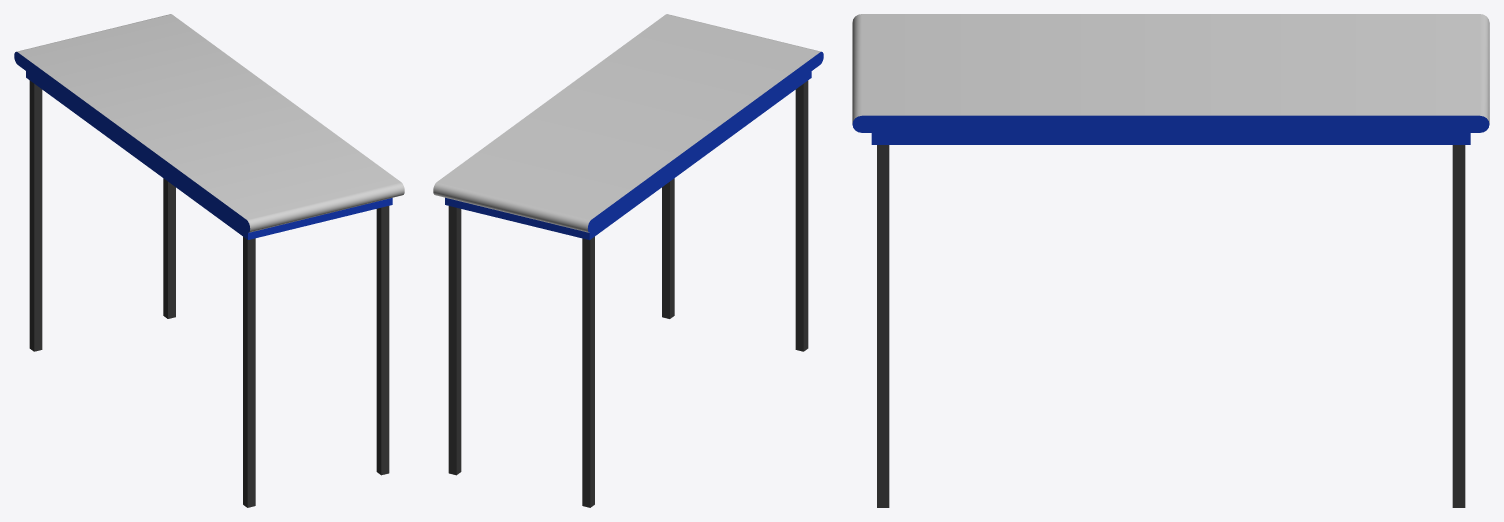
Rendered from Conveyor.fbx.
3 views of the same model, side by side, from view 1: azimuth 30°, elevation 25°; view 2: azimuth 150°, elevation 25°; view 3: azimuth 270°, elevation 25° (orthographic). The views are drawn at different scales.
Visible parts, largest first — view 1: Cylinder, Ножки, Cube; view 2: Cylinder, Ножки, Cube; view 3: Cylinder, Ножки, Cube.
Part boxes in pixels (x1,y1,x2,y2): Cylinder: (14,14,404,232); Ножки: (29,80,389,507); Cube: (26,71,392,239); Cylinder: (433,14,823,232); Ножки: (448,80,808,507); Cube: (445,71,811,240); Cylinder: (852,14,1489,132); Ножки: (877,145,1465,507); Cube: (871,133,1470,144).
Bounding box in the file's own units: 115 × 209 × 304.
